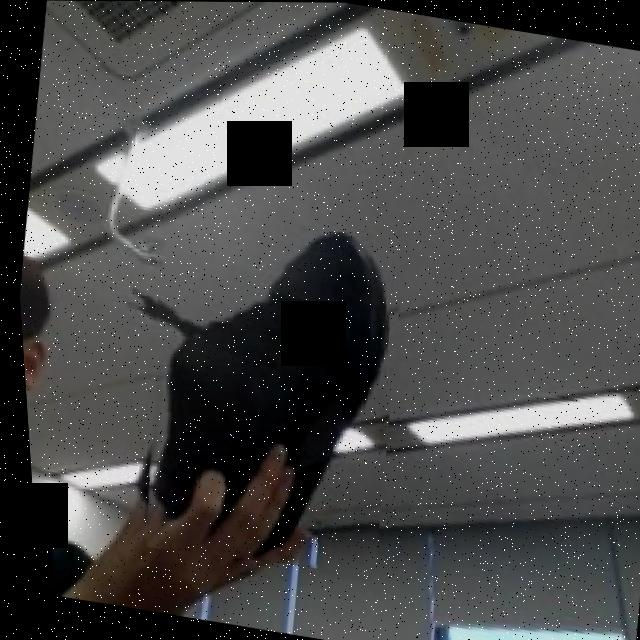shoe: (100, 152, 428, 584)
